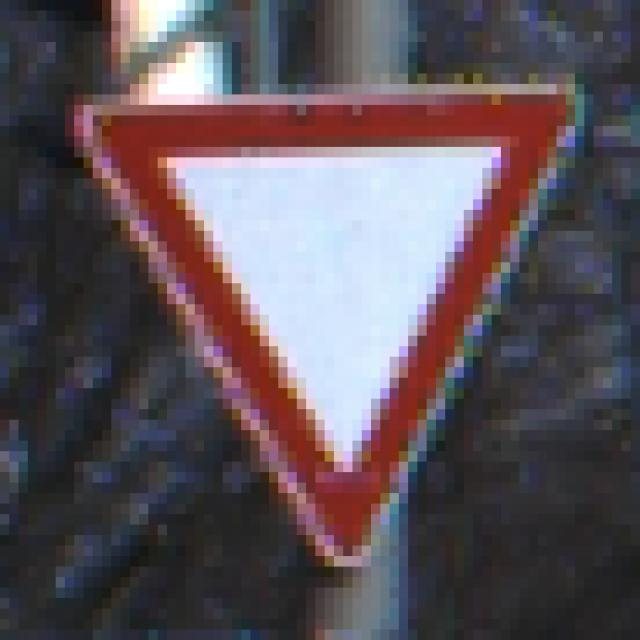Give Way: (57, 54, 585, 589)
